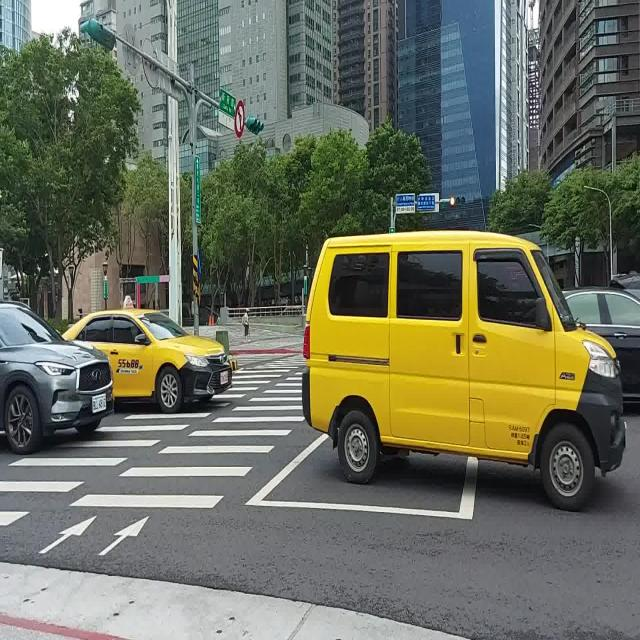car: (302, 231, 625, 509), (64, 309, 231, 413), (0, 302, 114, 453), (565, 289, 640, 400)
crosswalk: (0, 352, 306, 526), (67, 368, 305, 509)
